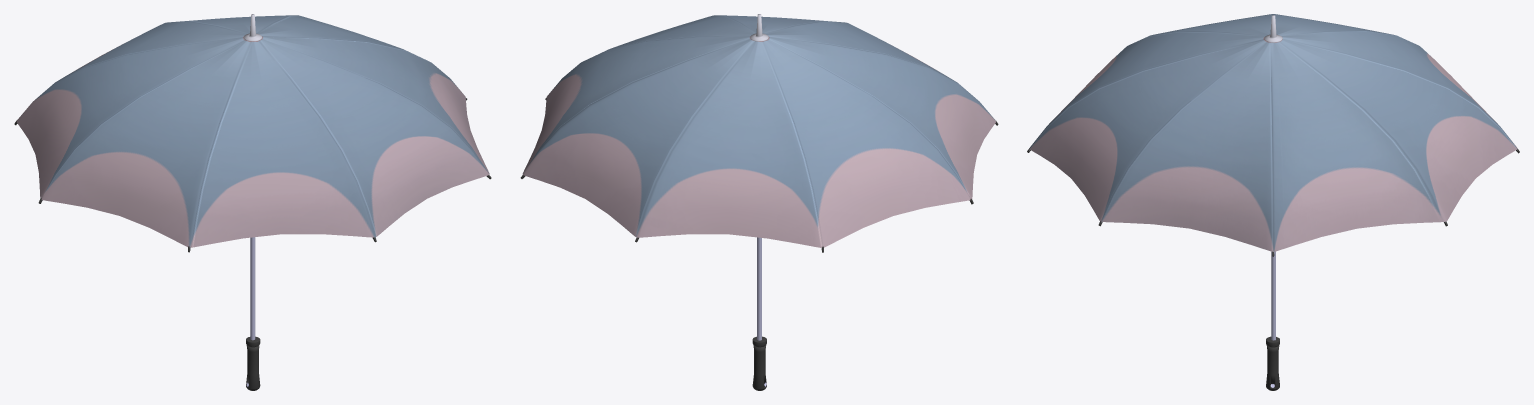
The model's file is Uu-Umbrella.glb.
3 views of the same model, side by side, from view 1: azimuth 30°, elevation 25°; view 2: azimuth 150°, elevation 25°; view 3: azimuth 270°, elevation 25° (orthographic).
Visible parts, largest first — view 1: Circle.024; view 2: Circle.024; view 3: Circle.024.
Part boxes in pixels (x1,y1,x2,y2): Circle.024: (14,14,491,390); Circle.024: (520,14,998,390); Circle.024: (1027,14,1519,390).
Bounding box in the file's own units: 2.61 × 2.18 × 2.61.
4 materials, 1 textured.
